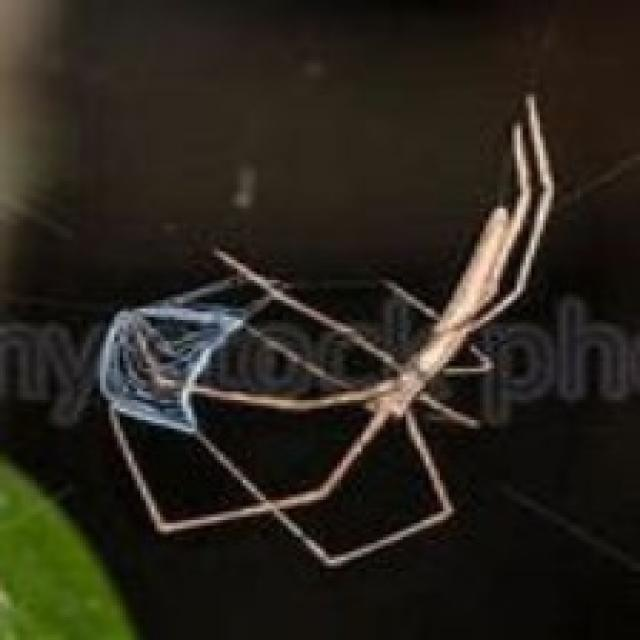Non venomous spider: (35, 20, 593, 580)
